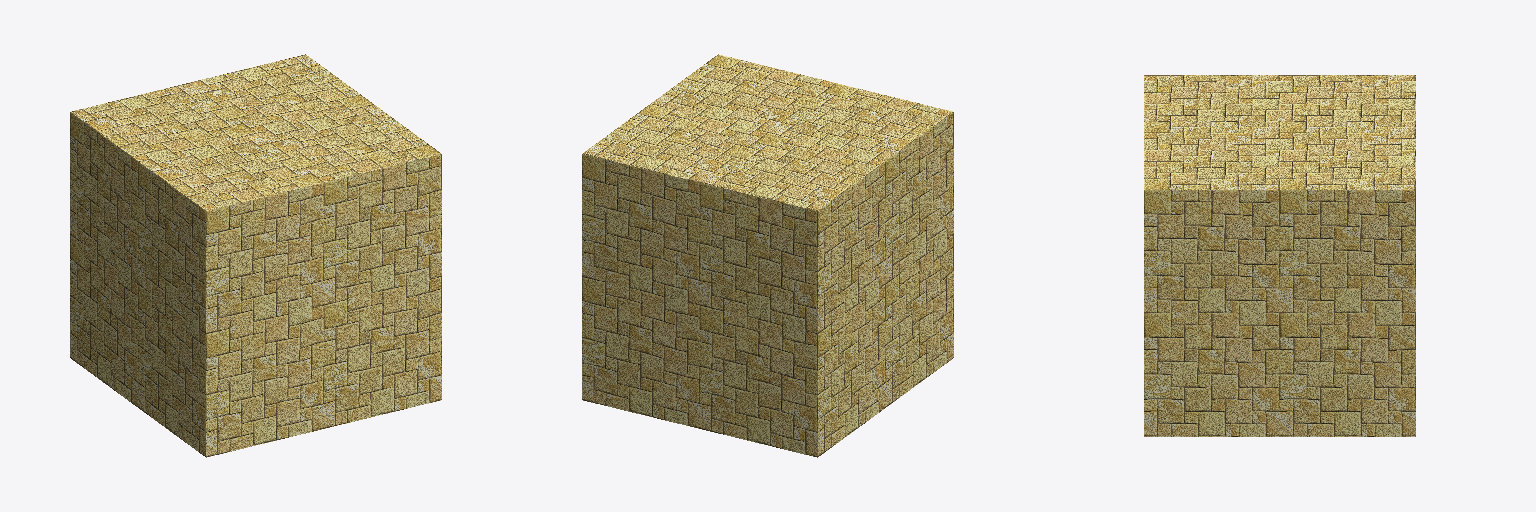
3 renders of one model, left to right at view 1: azimuth 30°, elevation 25°; view 2: azimuth 150°, elevation 25°; view 3: azimuth 270°, elevation 25°, orthographic.
Visible parts, largest first — view 1: roof_Cube.001; view 2: roof_Cube.001; view 3: roof_Cube.001.
Part boxes in pixels (left/top/right/bottom): roof_Cube.001: left=70, top=54, right=441, bottom=457; roof_Cube.001: left=582, top=54, right=953, bottom=457; roof_Cube.001: left=1144, top=75, right=1415, bottom=436.
Size of the model in its own units: 2 by 2 by 2.
Materials: 1 (1 with a texture image).